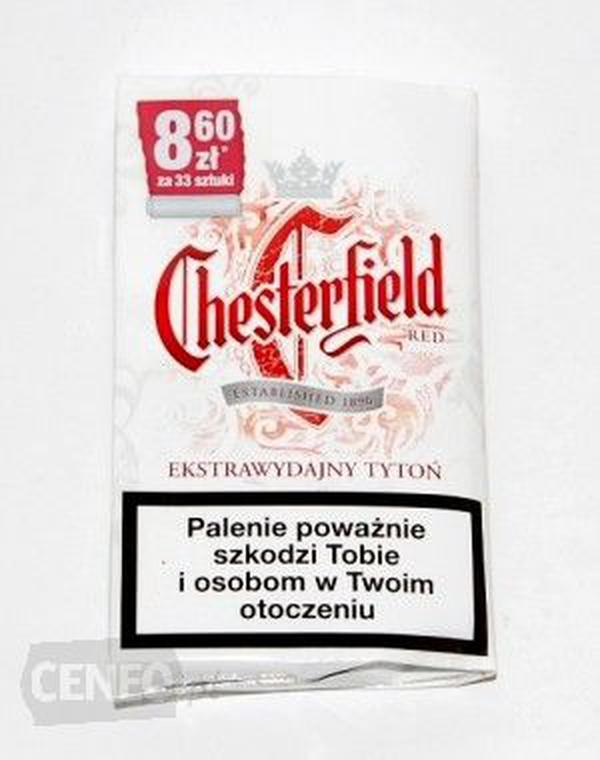chesterfield_red: (120, 74, 484, 669)
